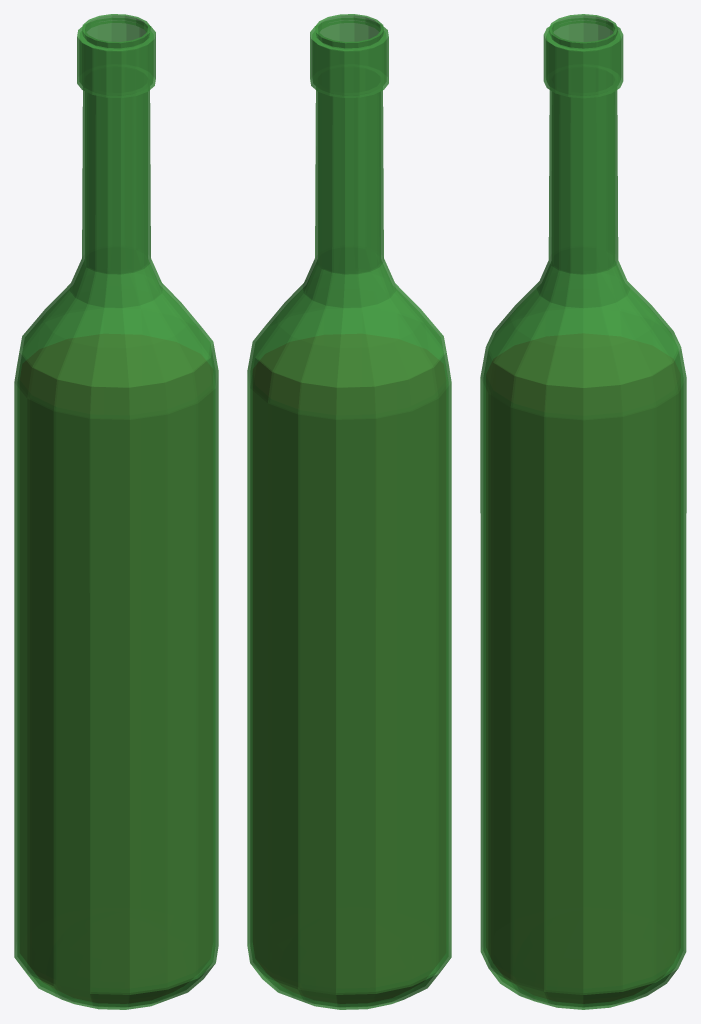
File: Bouteille.fbx
The picture shows the model from 3 angles, left to right: view 1: azimuth 30°, elevation 25°; view 2: azimuth 150°, elevation 25°; view 3: azimuth 270°, elevation 25°; orthographic projection.
Parts seen in each view (by area): view 1: Plane, Plane.001; view 2: Plane, Plane.001; view 3: Plane, Plane.001.
Part boxes in pixels (<box>): Plane: <box>14,14,218,1009</box>; Plane.001: <box>20,334,212,1003</box>; Plane: <box>247,14,451,1009</box>; Plane.001: <box>253,334,445,1003</box>; Plane: <box>480,14,686,1009</box>; Plane.001: <box>486,334,680,1003</box>.
Bounding box in the file's own units: 68.52 × 349 × 68.52.
